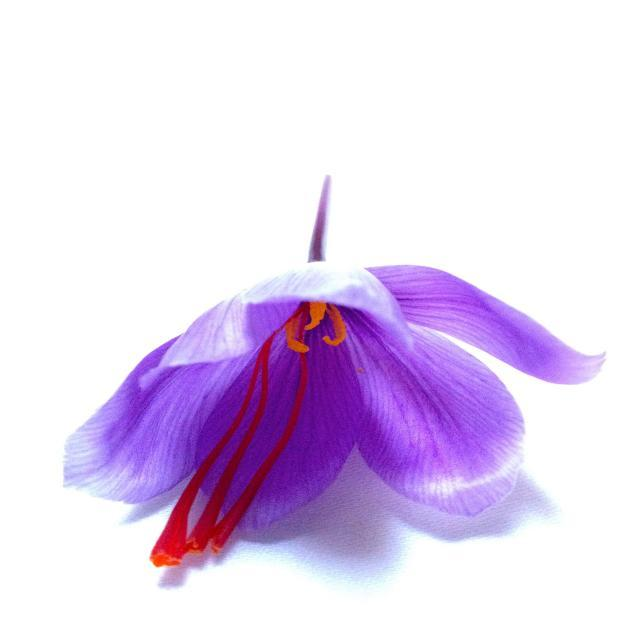Flower: (65, 176, 617, 584)
stigma: (145, 306, 352, 583)
